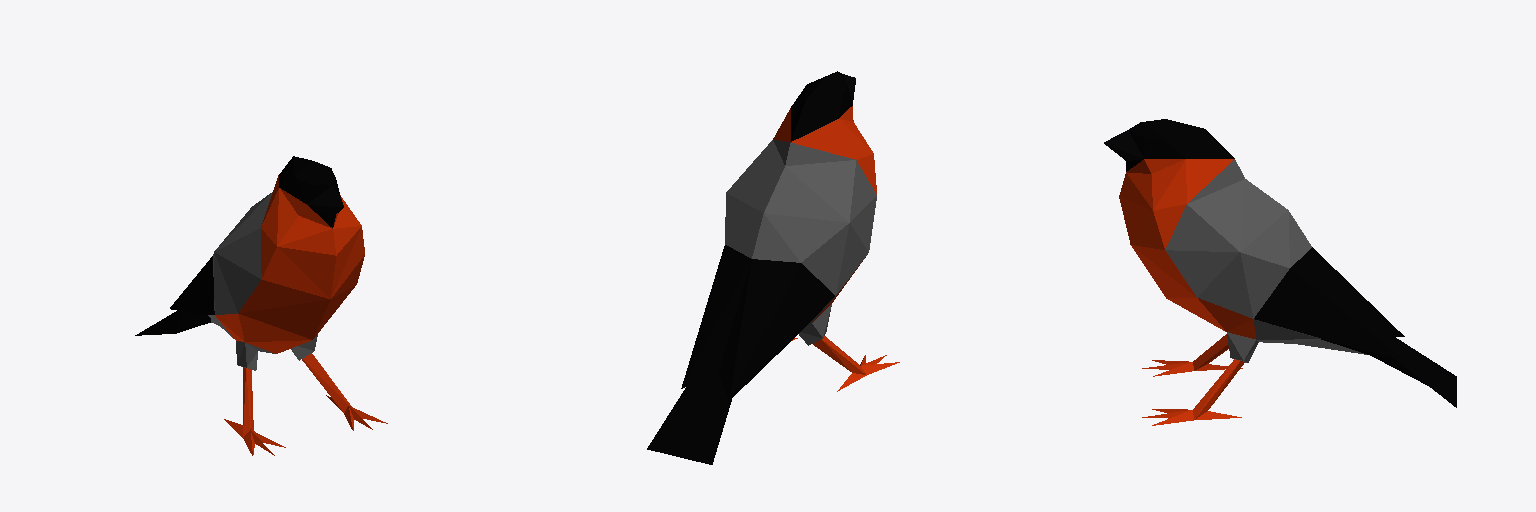
Rendered from Bird2.obj.
The picture shows the model from 3 angles: view 1: azimuth 30°, elevation 25°; view 2: azimuth 150°, elevation 25°; view 3: azimuth 270°, elevation 25°; orthographic projection.
Parts seen in each view (by area): view 1: Plane; view 2: Plane; view 3: Plane.
Part boxes in pixels (left/top/right/bottom): Plane: left=135, top=156, right=387, bottom=455; Plane: left=647, top=71, right=899, bottom=464; Plane: left=1104, top=119, right=1456, bottom=425.
Bounding box in the file's own units: 0.0727 × 0.1398 × 0.1635.